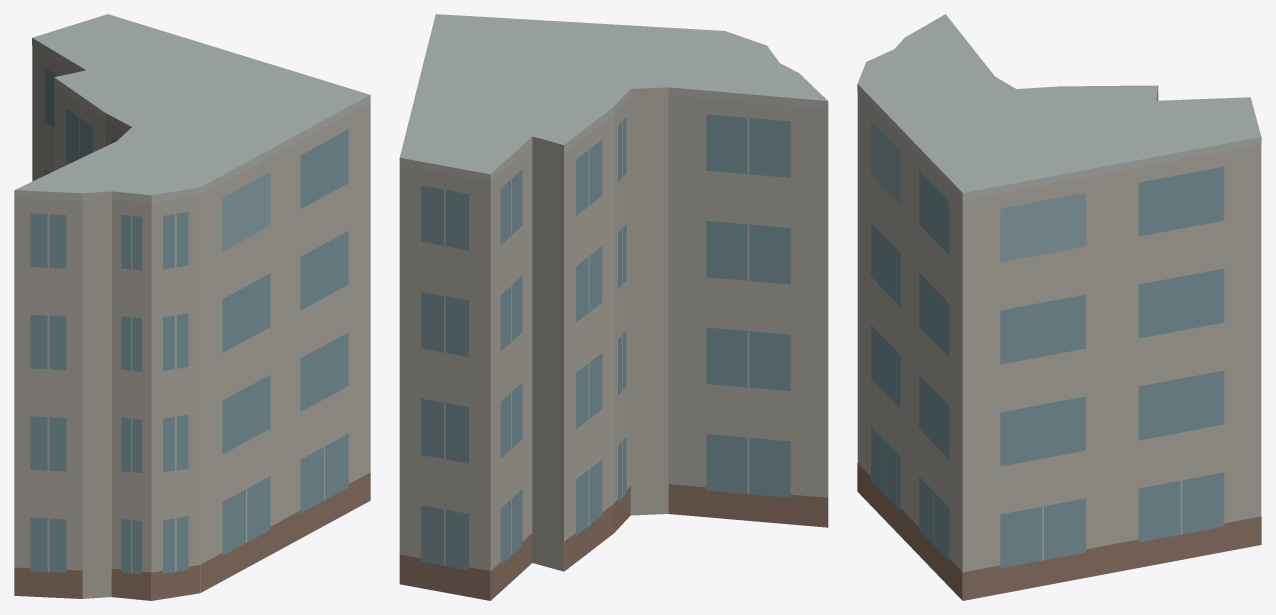
The model's file is survey-upis-33046763.glb.
3 views of the same model, side by side, from view 1: azimuth 30°, elevation 25°; view 2: azimuth 150°, elevation 25°; view 3: azimuth 270°, elevation 25° (orthographic). The views are drawn at different scales.
Parts seen in each view (by area): view 1: survey-upis-33046763.tmp; view 2: survey-upis-33046763.tmp; view 3: survey-upis-33046763.tmp.
Boxes of the visible parts, x1,y1,x2,y2 form: survey-upis-33046763.tmp: (14,14,370,600); survey-upis-33046763.tmp: (399,14,828,600); survey-upis-33046763.tmp: (857,14,1261,600).
Bounding box in the file's own units: 12.25 × 13 × 11.68.
